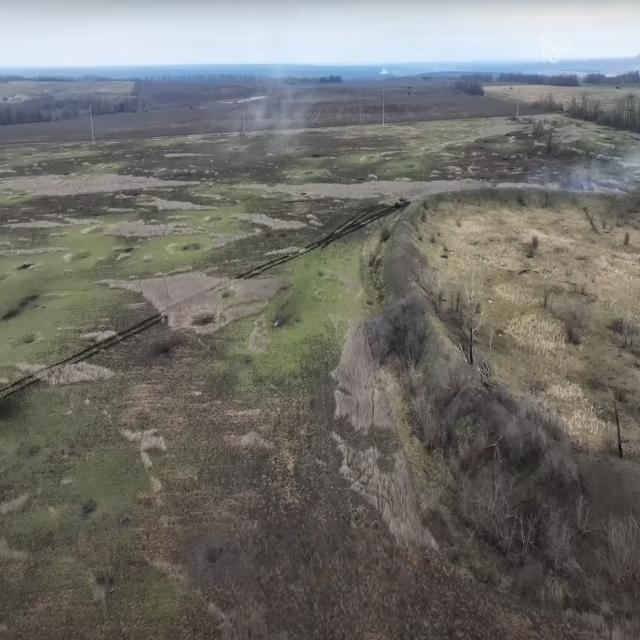MBT: (394, 197, 414, 211)
